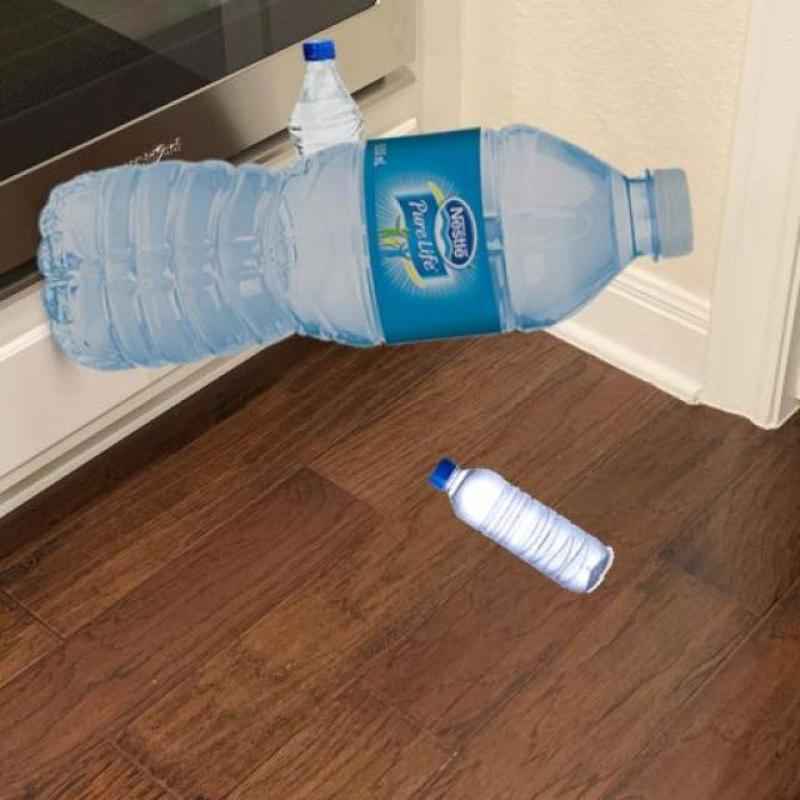botella: (35, 123, 696, 371), (432, 459, 613, 596), (288, 39, 363, 162)
